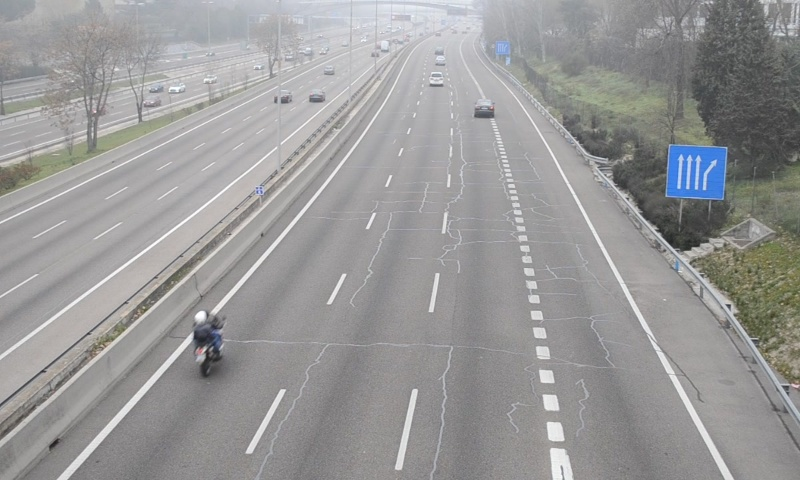car: (473, 98, 494, 117), (428, 72, 444, 88)
motorcycle: (190, 309, 226, 380)
